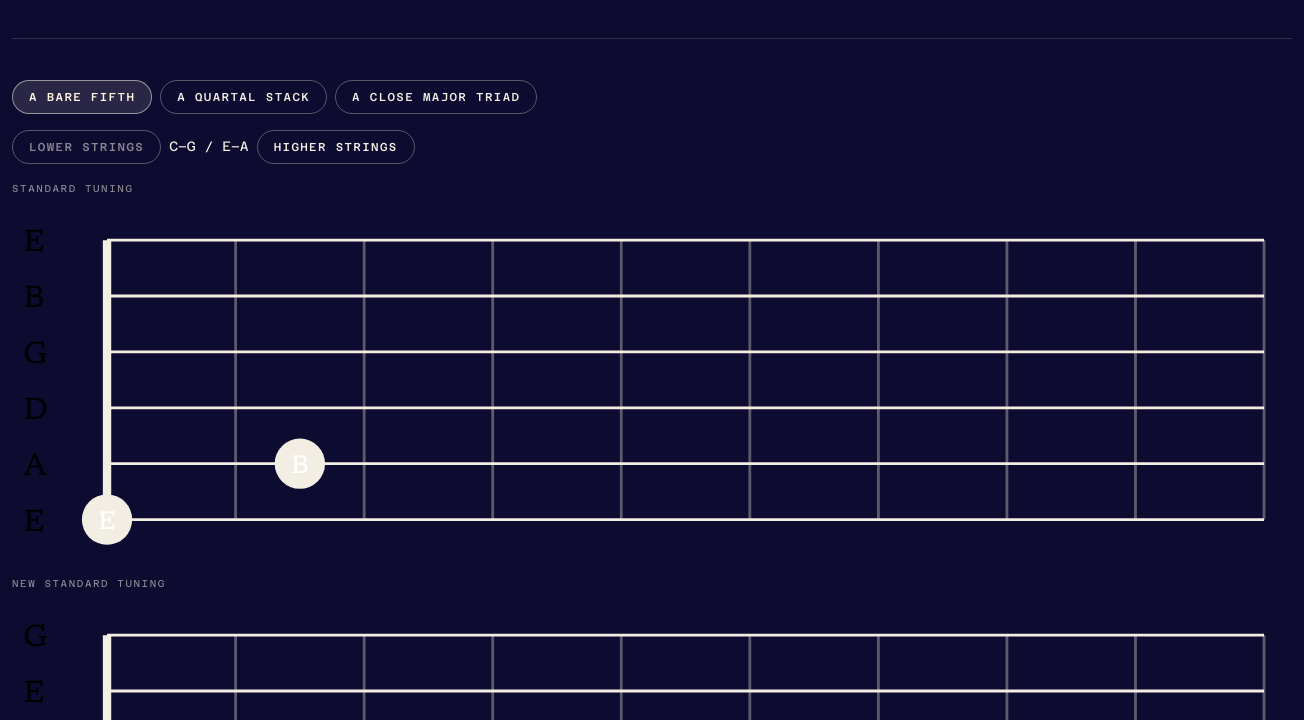
Test: Fretboards › the top pair is NST breaking its own pattern — and it says so
The width and height of the screenshot is (1304, 720).
Click the button "Higher strings" at (336, 147), box [257,130,415,164]
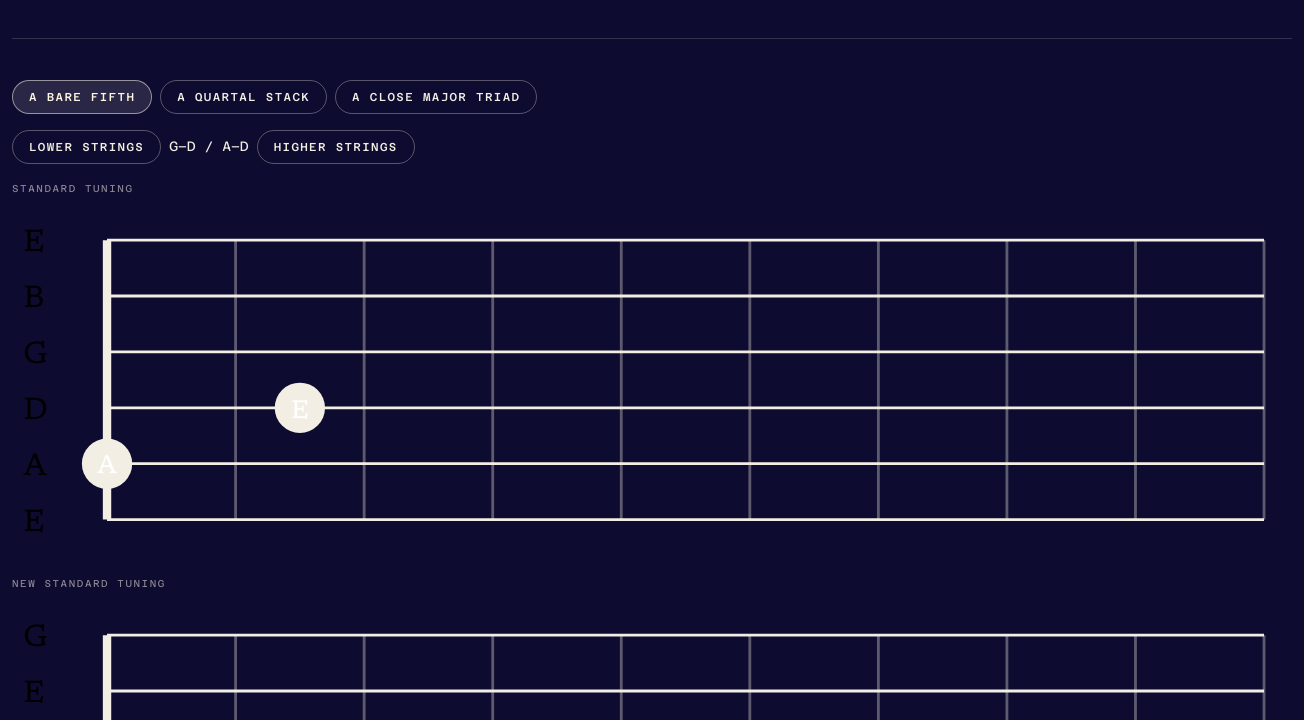
Click the button "Higher strings" at (336, 147), box [257,130,415,164]
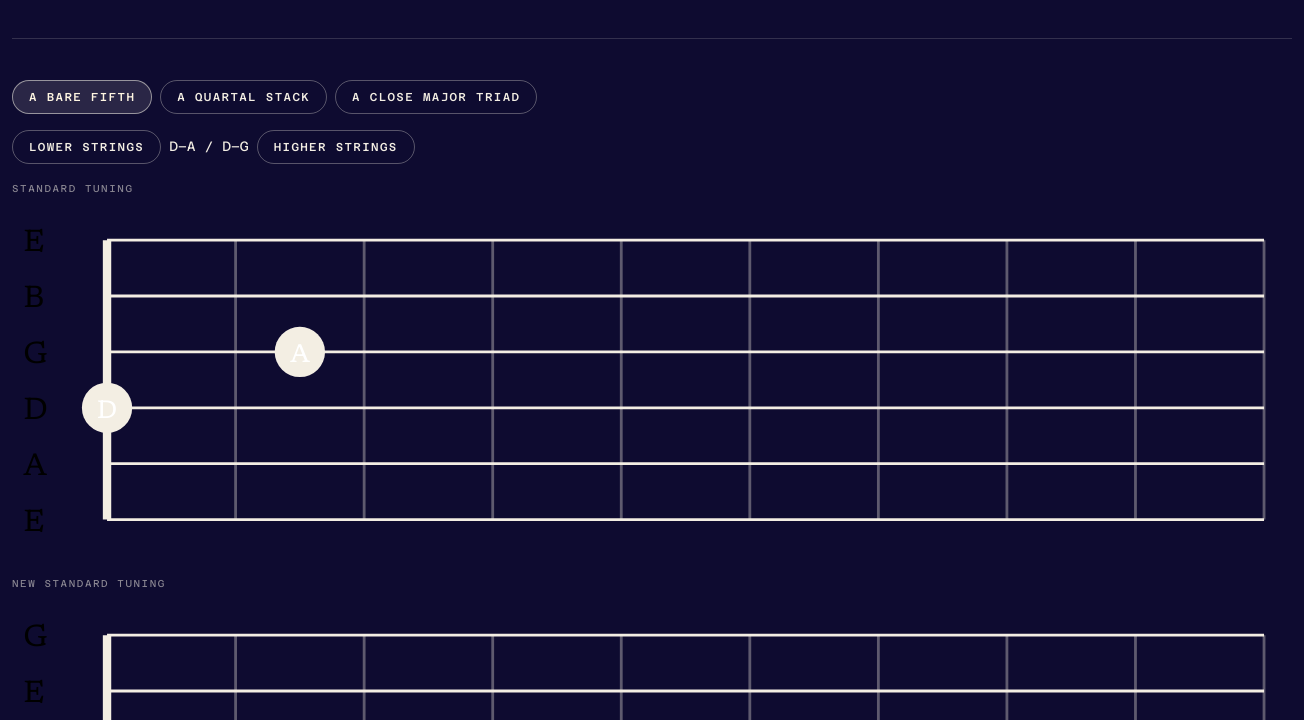
Click the button "Higher strings" at (336, 147), box [257,130,415,164]
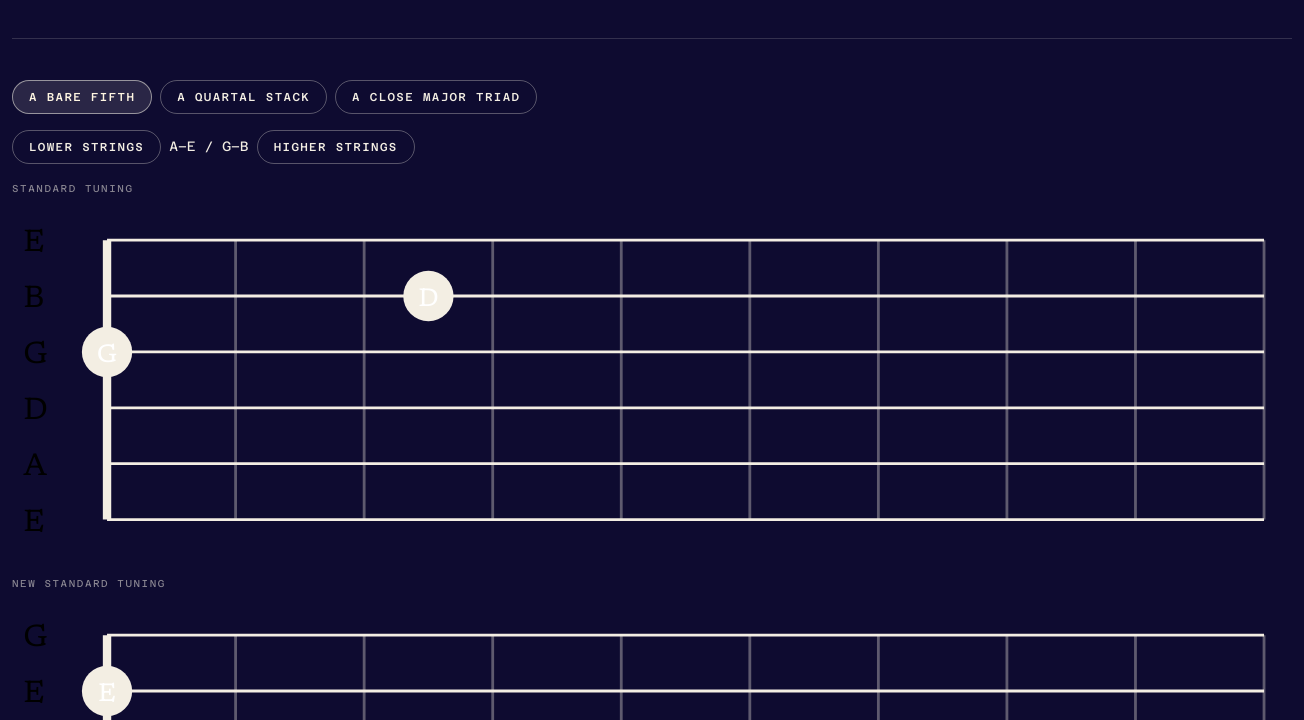
Click the button "Higher strings" at (336, 147), box [257,130,415,164]
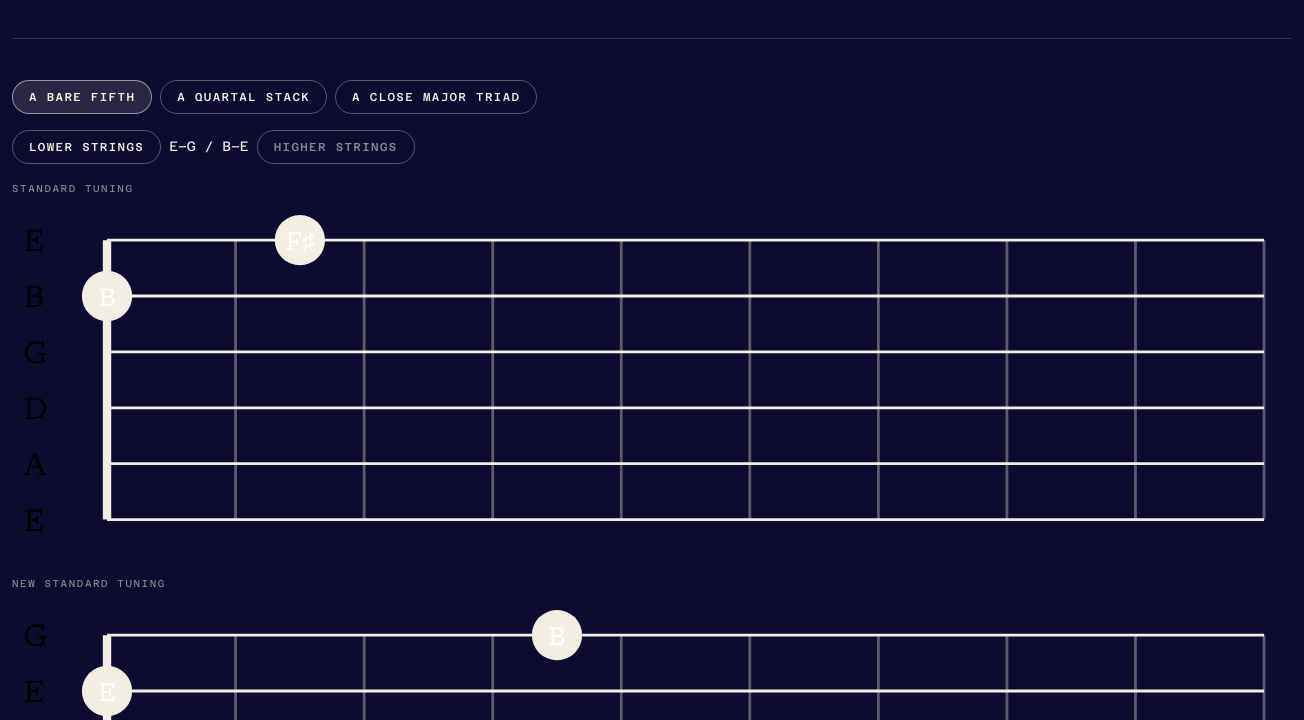
expect the text "E–G / B–E" is shown: met, box [169,135,249,158]
expect the button "Higher strings" is disabled: met, box [257,130,415,164]
